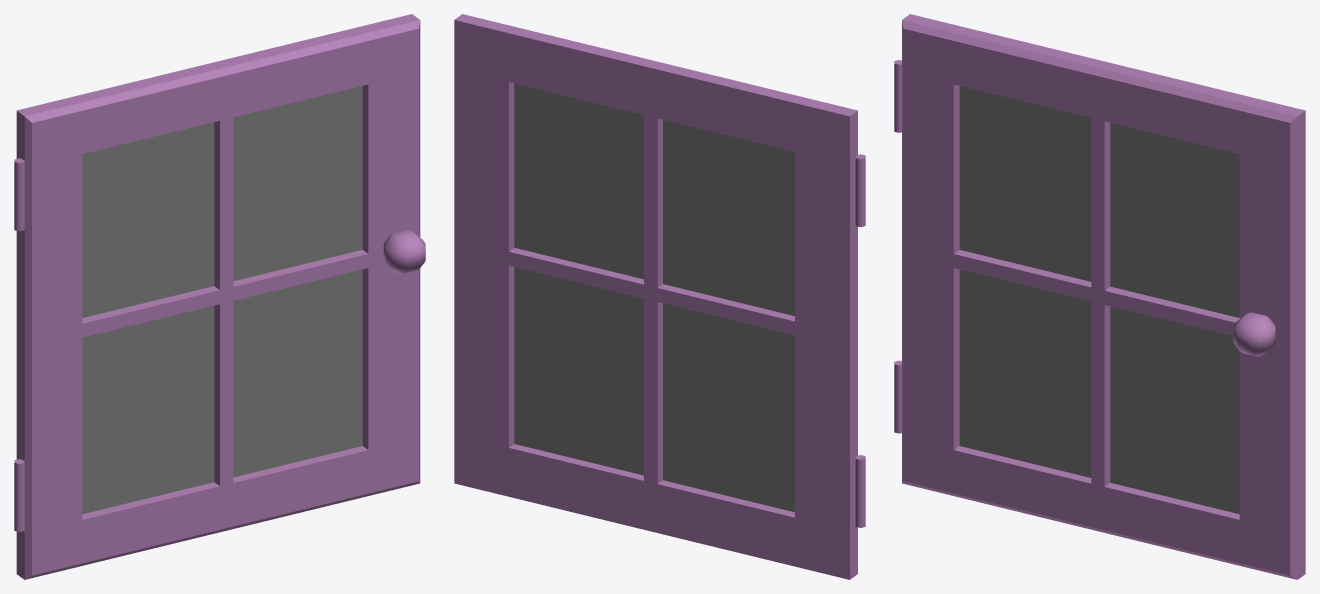
The model's file is PorteMeubleCuisine01.fbx.
3 views of the same model, side by side, from view 1: azimuth 30°, elevation 25°; view 2: azimuth 150°, elevation 25°; view 3: azimuth 330°, elevation 25° (orthographic).
Parts seen in each view (by area): view 1: PorteMeubleCuisine01; view 2: PorteMeubleCuisine01; view 3: PorteMeubleCuisine01.
Boxes of the visible parts, x1,y1,x2,y2 form: PorteMeubleCuisine01: (14,14,425,579); PorteMeubleCuisine01: (454,14,865,579); PorteMeubleCuisine01: (894,14,1305,579).
Size of the model in its own units: 52.43 by 57.39 by 7.04.
